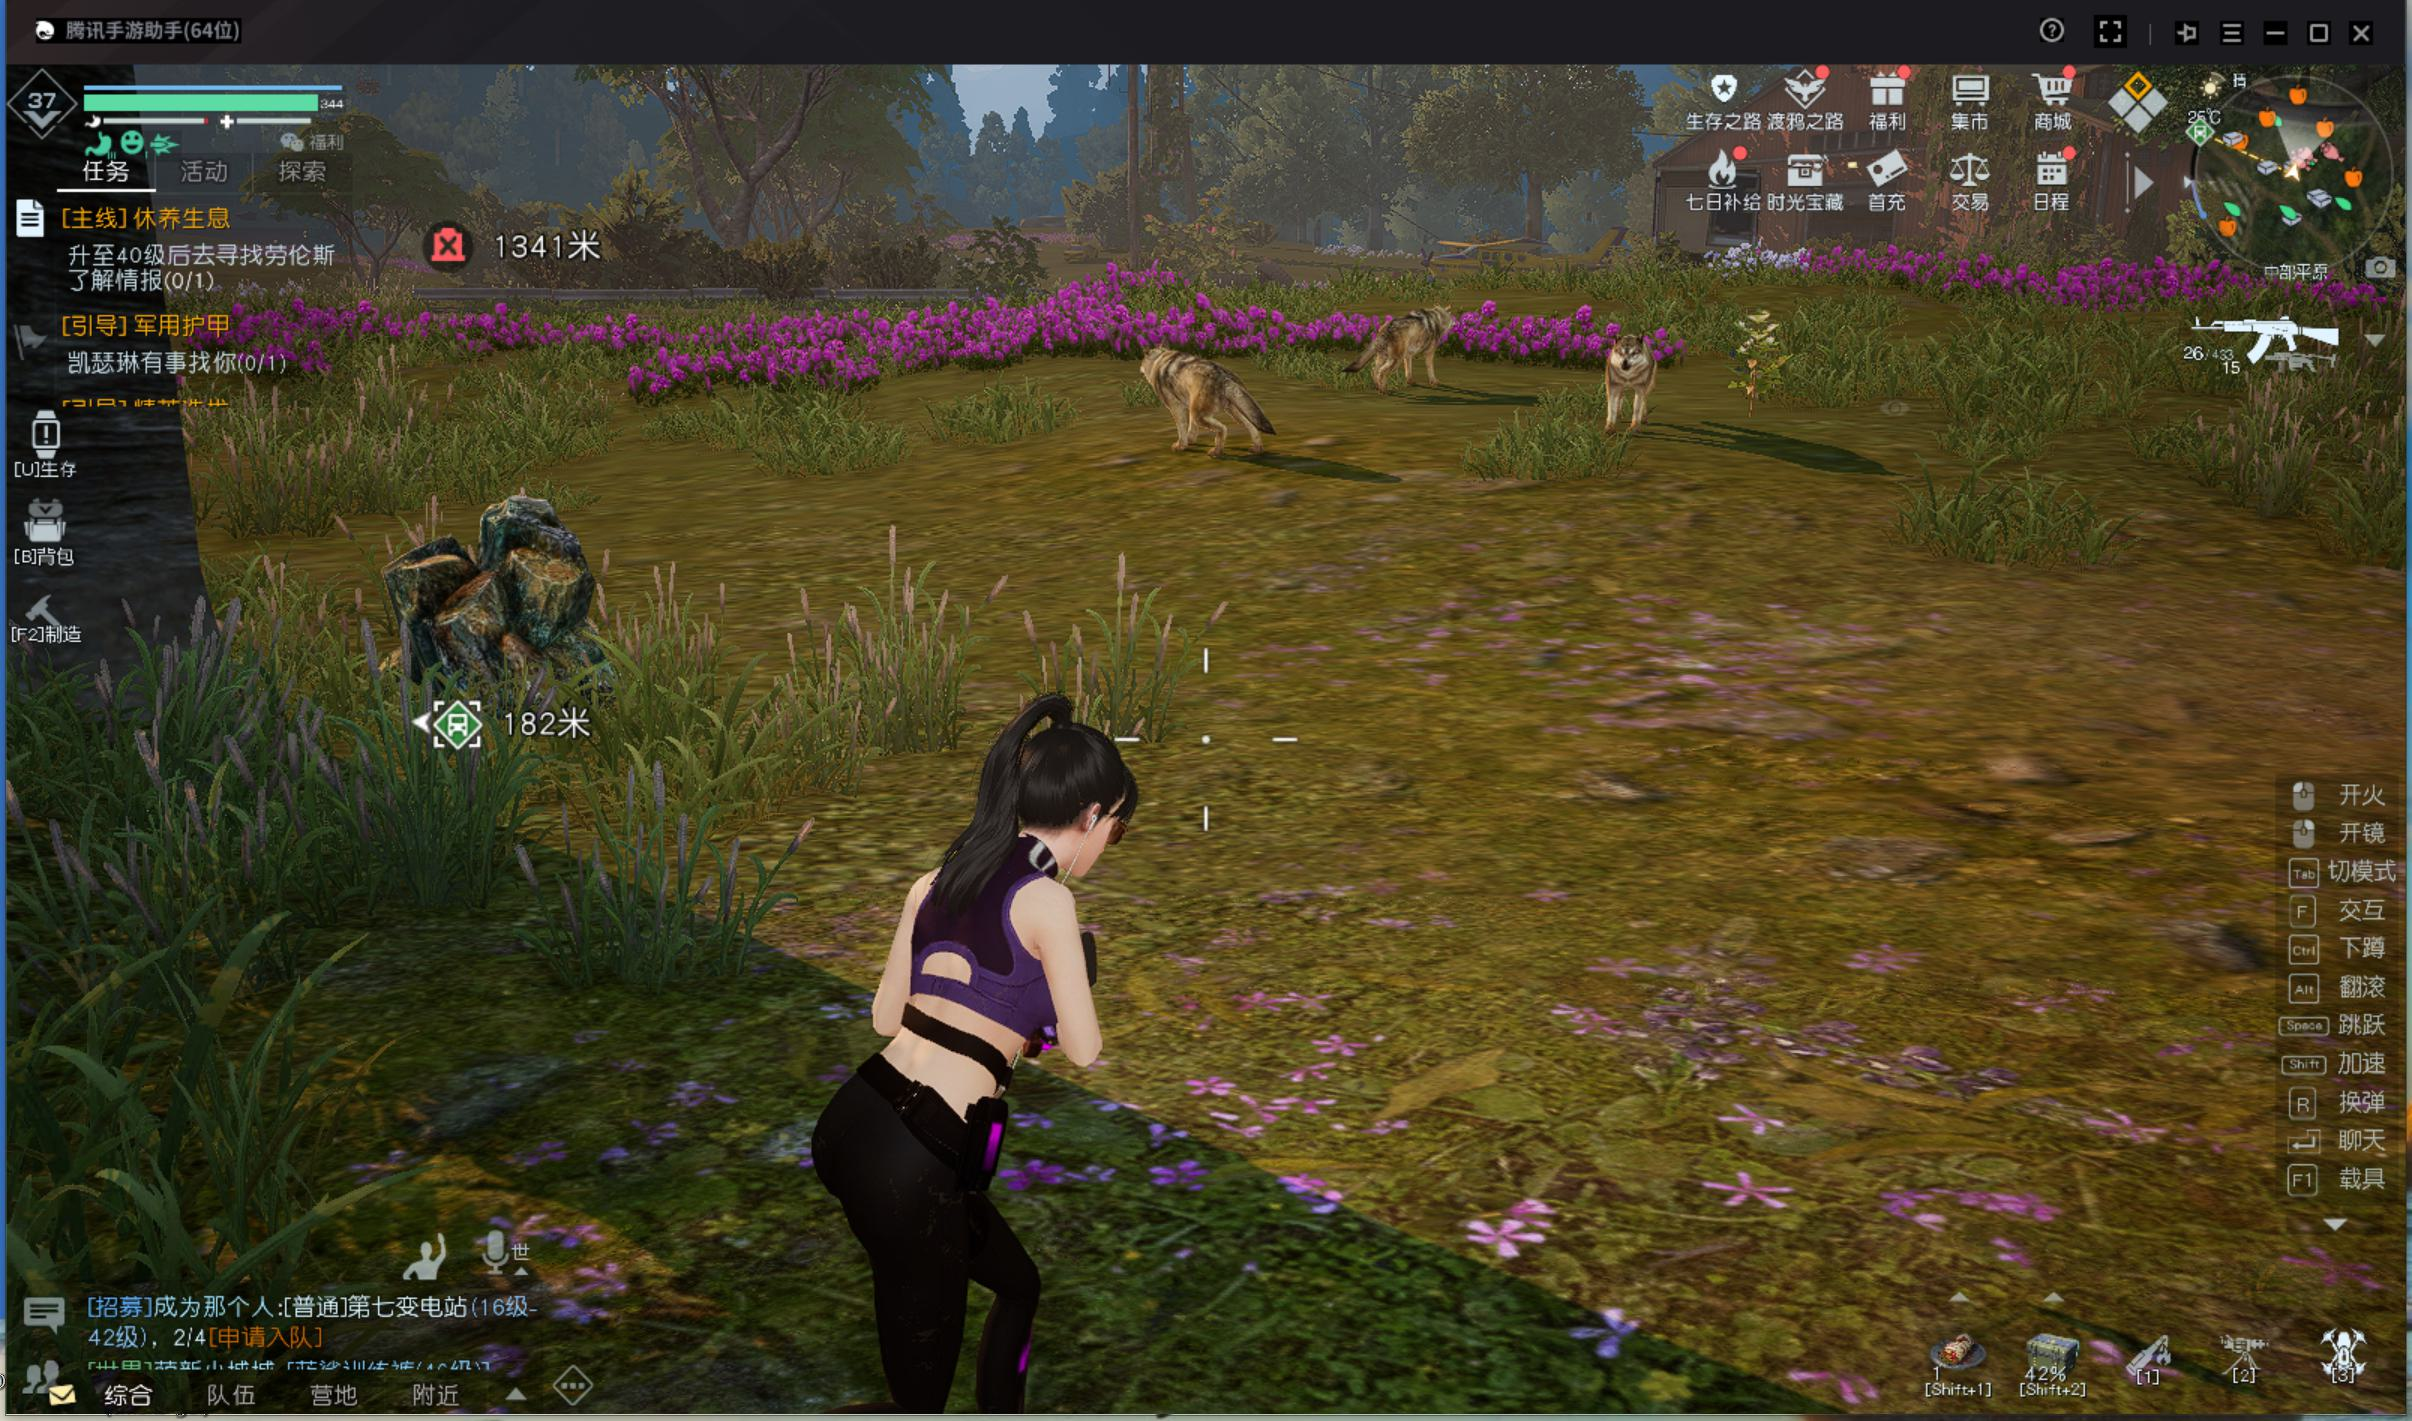stone: (377, 480, 633, 732)
